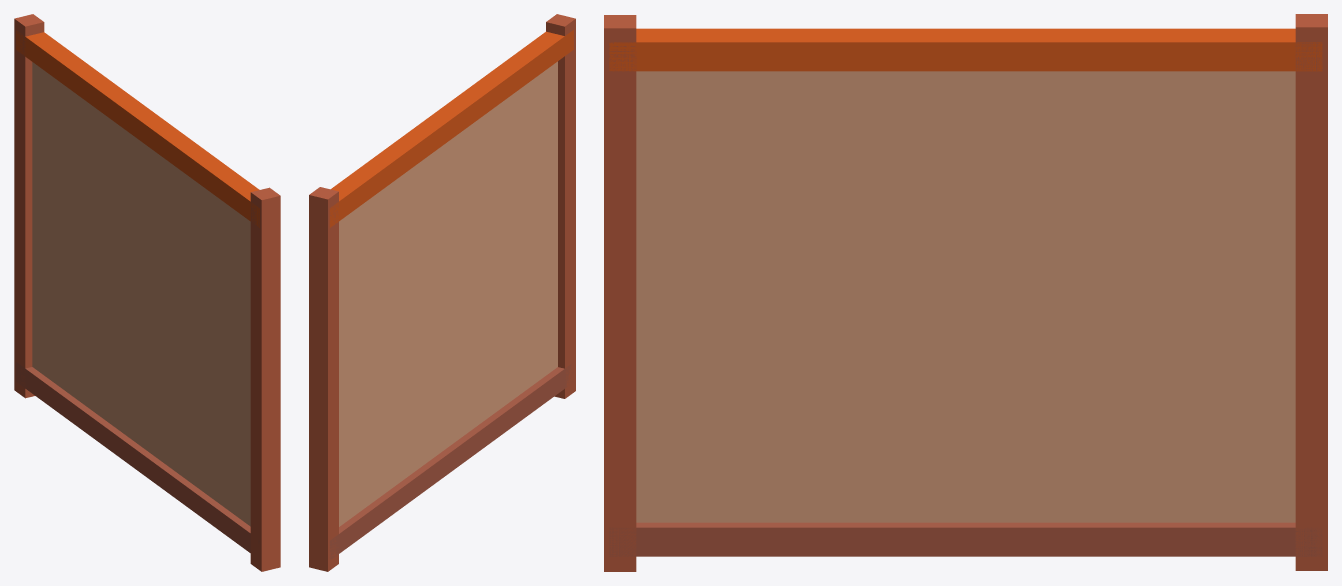
The model's file is panel.glb.
The picture shows the model from 3 angles, left to right: view 1: azimuth 30°, elevation 25°; view 2: azimuth 150°, elevation 25°; view 3: azimuth 270°, elevation 25°; orthographic projection. The views are drawn at different scales.
Parts seen in each view (by area): view 1: Cube, Cube.002, Cube.001, Cube.004, Cube.003; view 2: Cube, Cube.004, Cube.001, Cube.002, Cube.003; view 3: Cube, Cube.001, Cube.003, Cube.004, Cube.002.
Part boxes in pixels (x1,y1,x2,y2): Cube: (32, 62, 250, 526); Cube.002: (250, 187, 280, 571); Cube.001: (16, 30, 259, 227); Cube.004: (14, 14, 44, 398); Cube.003: (16, 362, 259, 552); Cube: (339, 61, 557, 526); Cube.004: (309, 187, 338, 571); Cube.001: (329, 30, 573, 227); Cube.002: (546, 14, 575, 398); Cube.003: (329, 364, 573, 559); Cube: (636, 71, 1295, 522); Cube.001: (609, 28, 1322, 71); Cube.003: (609, 522, 1322, 556); Cube.004: (1295, 14, 1327, 570); Cube.002: (604, 15, 636, 571).
Size of the model in its own units: 0.1944 by 3.67 by 4.42.
